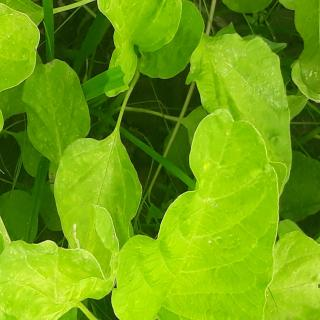karat_putih: (10, 207, 120, 320), (90, 0, 185, 80), (276, 228, 320, 318)
virus_keriting: (0, 0, 40, 6)
